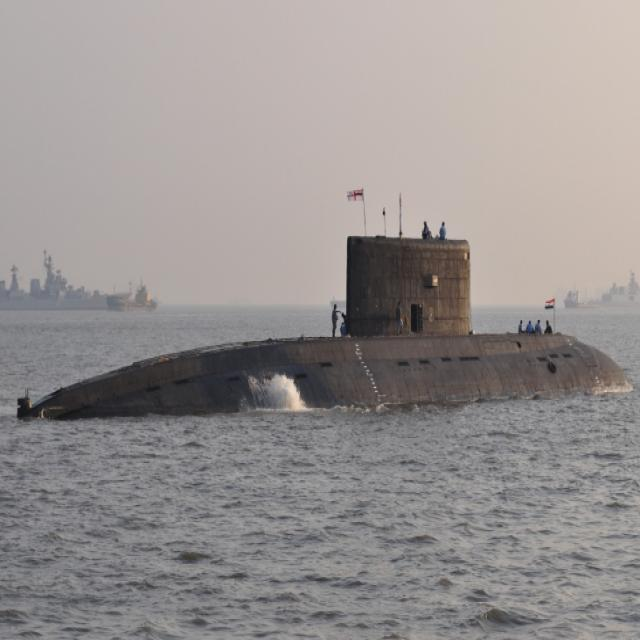submarine: (16, 244, 640, 426)
